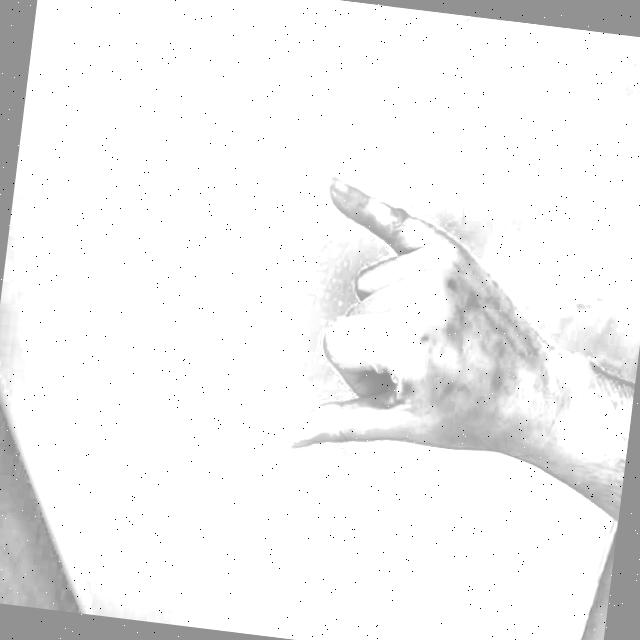Oi: (243, 130, 572, 512)
